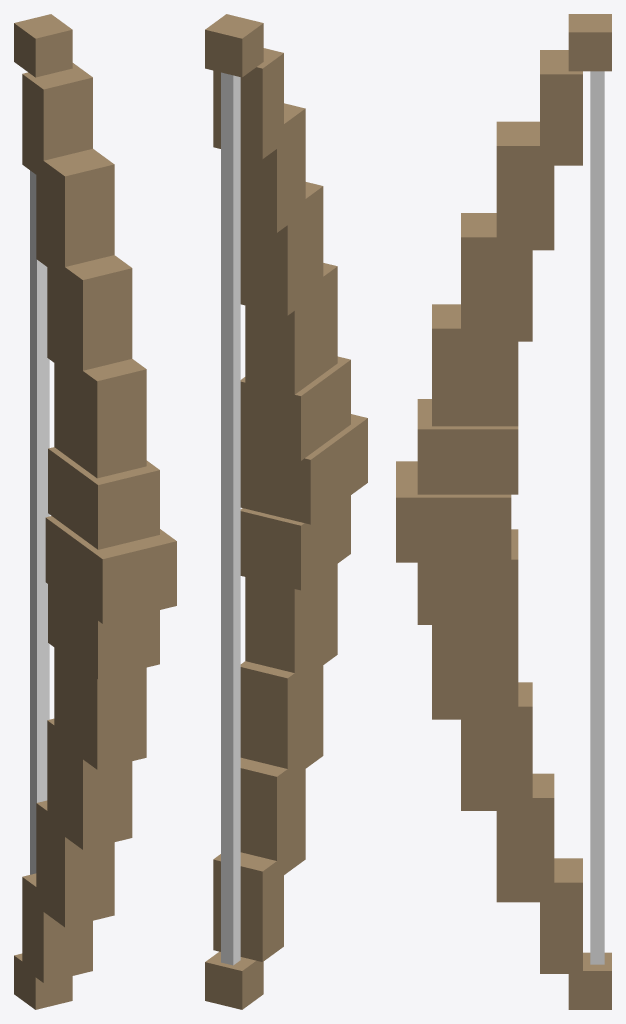
Rendered from weapon_bow.glb.
3 renders of one model, left to right at view 1: azimuth 30°, elevation 25°; view 2: azimuth 150°, elevation 25°; view 3: azimuth 270°, elevation 25°, orthographic.
Parts seen in each view (by area): view 1: Weapon_Bow; view 2: Weapon_Bow; view 3: Weapon_Bow.
Boxes of the visible parts, x1=… form: Weapon_Bow: x1=14, y1=14, x2=176, y2=1009; Weapon_Bow: x1=205, y1=14, x2=367, y2=1009; Weapon_Bow: x1=396, y1=14, x2=611, y2=1009.
Size of the model in its own units: 0.12 by 1.5 by 0.3.
